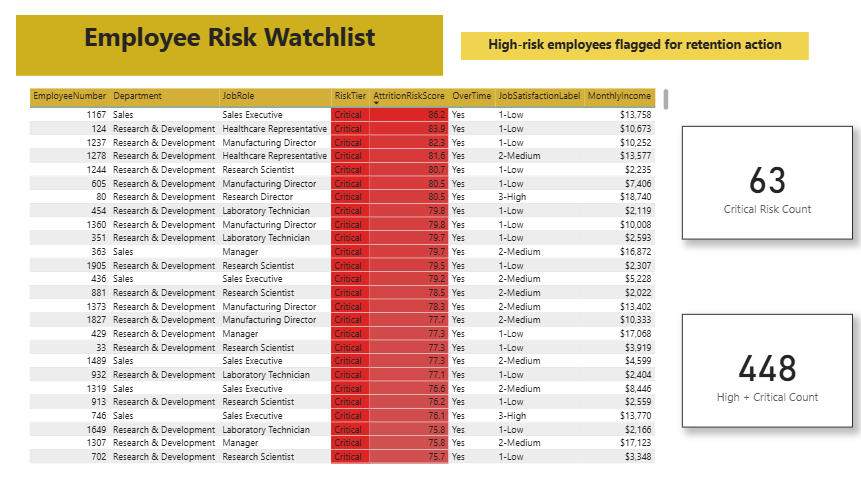

The dashboard page shown, as its layout file describes it:
{"tool":"powerbi","page":{"name":"Risk Watchlist","canvas":[1280,720],"ordinal":4},"visuals":[{"type":"textbox","box":[39.5,30.7,624.9,89.3],"z":0},{"type":"textbox","box":[690.7,55.6,509.3,41],"z":1000},{"type":"tableEx","fields":{"Values":["hr_attrition_cleaned.EmployeeNumber","hr_attrition_cleaned.Department","hr_attrition_cleaned.JobRole","hr_attrition_cleaned.RiskTier","hr_attrition_cleaned.AttritionRiskScore","hr_attrition_cleaned.OverTime","hr_attrition_cleaned.JobSatisfactionLabel","hr_attrition_cleaned.MonthlyIncome"]},"box":[53.8,132.7,945.7,559.4],"z":2000},{"type":"card","fields":{"Values":["hr_attrition_cleaned.Critical Risk Count"]},"box":[1029.7,193.2,250.3,166.3],"z":3000},{"type":"card","fields":{"Values":["hr_attrition_cleaned.High + Critical Count"]},"box":[1029.7,461.9,250.3,215],"z":4000}]}

Visuals, with their boxes in screenshot pixels (x1, y1, x2, y2), scaled from the page's 1280x720 canvas onto the 861x482 screenshot:
textbox: {"x1": 27, "y1": 21, "x2": 447, "y2": 80}
textbox: {"x1": 465, "y1": 37, "x2": 807, "y2": 65}
tableEx - hr_attrition_cleaned.EmployeeNumber x hr_attrition_cleaned.Department: {"x1": 36, "y1": 89, "x2": 672, "y2": 463}
card - hr_attrition_cleaned.Critical Risk Count: {"x1": 693, "y1": 129, "x2": 860, "y2": 241}
card - hr_attrition_cleaned.High + Critical Count: {"x1": 693, "y1": 309, "x2": 860, "y2": 453}
